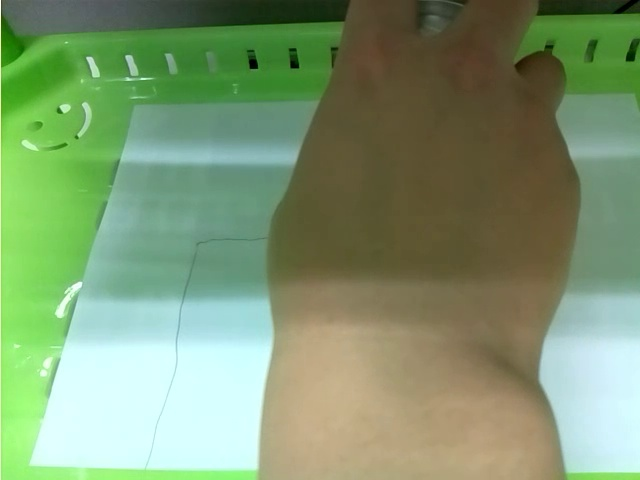hand: (270, 3, 580, 480)
